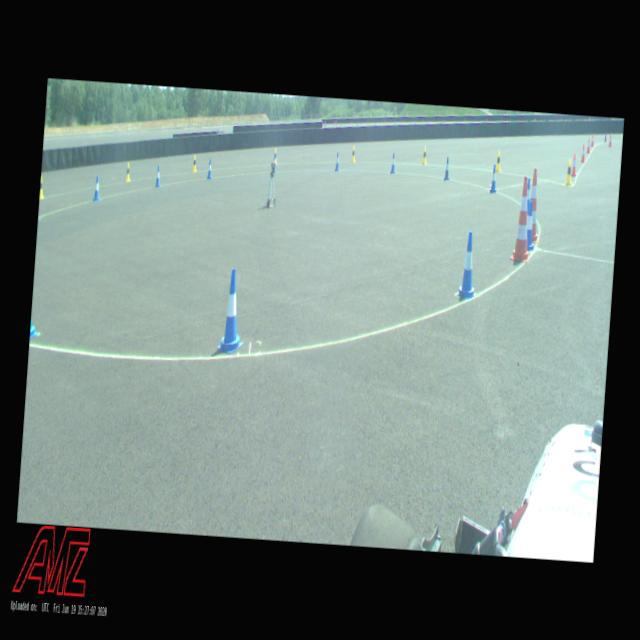blue_cone: (216, 266, 248, 356), (455, 229, 480, 300), (524, 199, 536, 249), (524, 176, 531, 215), (489, 164, 498, 192), (92, 176, 100, 200), (444, 156, 451, 180), (390, 151, 396, 174), (154, 165, 160, 186), (206, 158, 212, 178), (334, 152, 340, 172), (272, 154, 277, 172)
large_orange_cone: (510, 175, 536, 263), (527, 167, 542, 240)
orange_cone: (570, 152, 578, 176), (580, 143, 586, 162), (586, 136, 592, 154), (590, 132, 595, 146), (608, 132, 612, 148)
yellow_cone: (564, 157, 573, 185), (495, 150, 502, 172), (350, 146, 356, 163), (422, 145, 427, 165), (125, 161, 130, 181), (39, 174, 43, 198), (191, 154, 196, 172), (272, 147, 276, 163)
